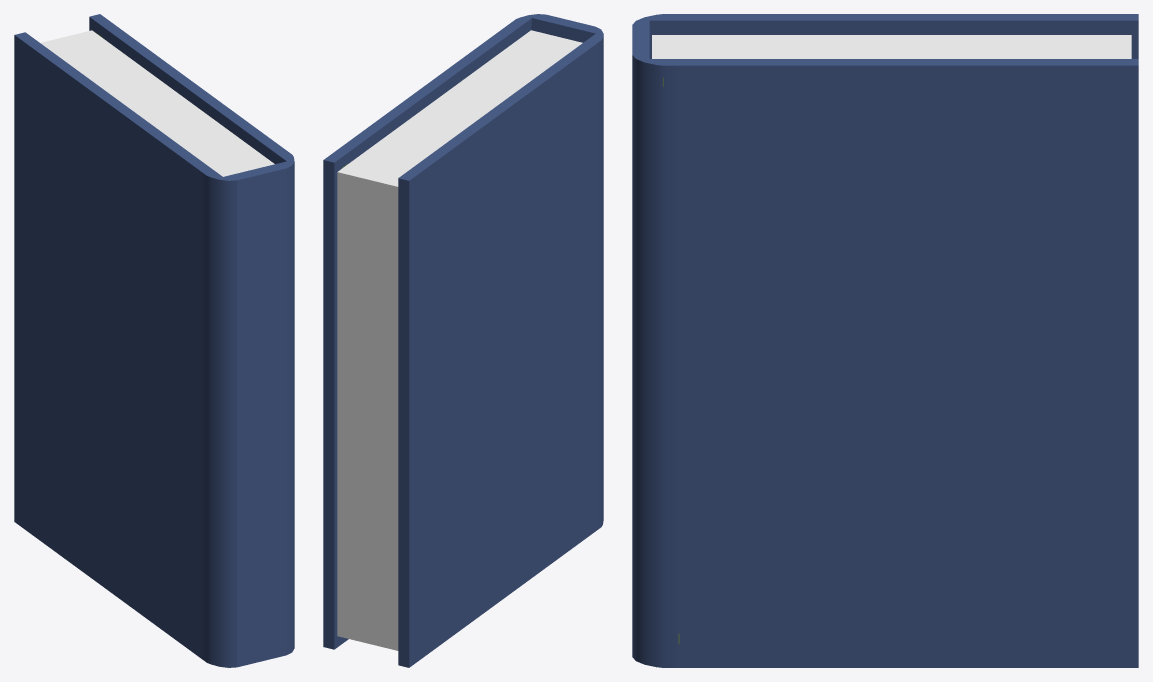
Rendered from LibroAzul.fbx.
3 renders of one model, left to right at view 1: azimuth 30°, elevation 25°; view 2: azimuth 150°, elevation 25°; view 3: azimuth 270°, elevation 25°, orthographic. The views are drawn at different scales.
Visible parts, largest first — view 1: libro; view 2: libro; view 3: libro.
Part boxes in pixels (<box>): libro: <box>14,14,294,667</box>; libro: <box>323,14,603,667</box>; libro: <box>632,14,1138,667</box>.
Size of the model in its own units: 4.64 by 25.17 by 19.18.
